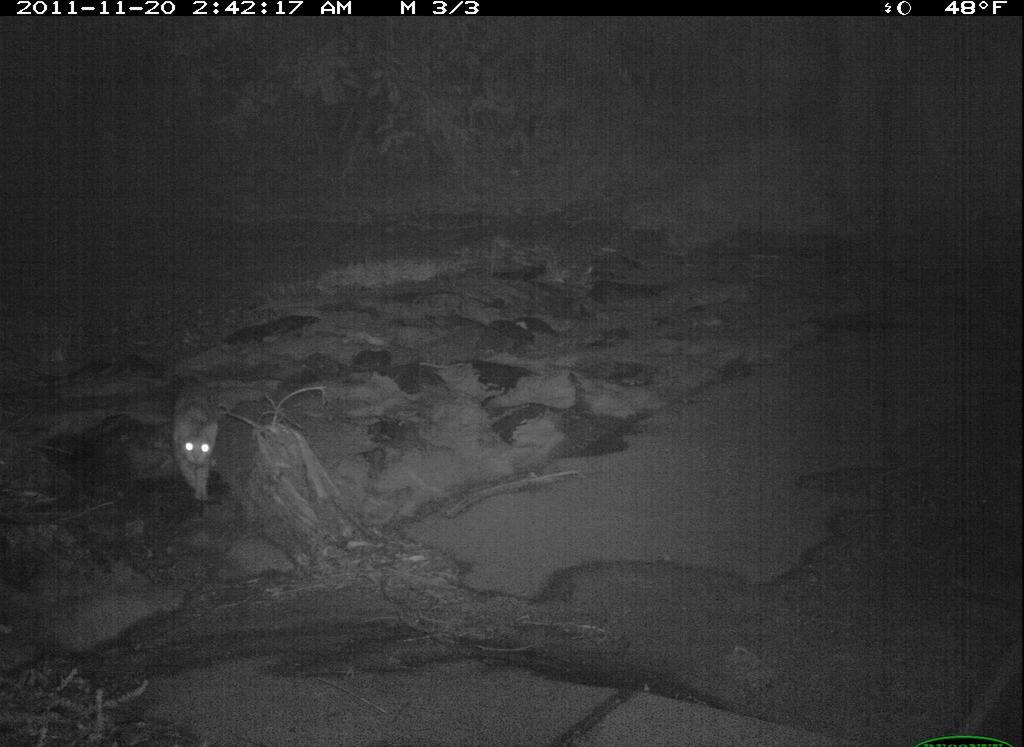cat: (149, 370, 227, 511)
